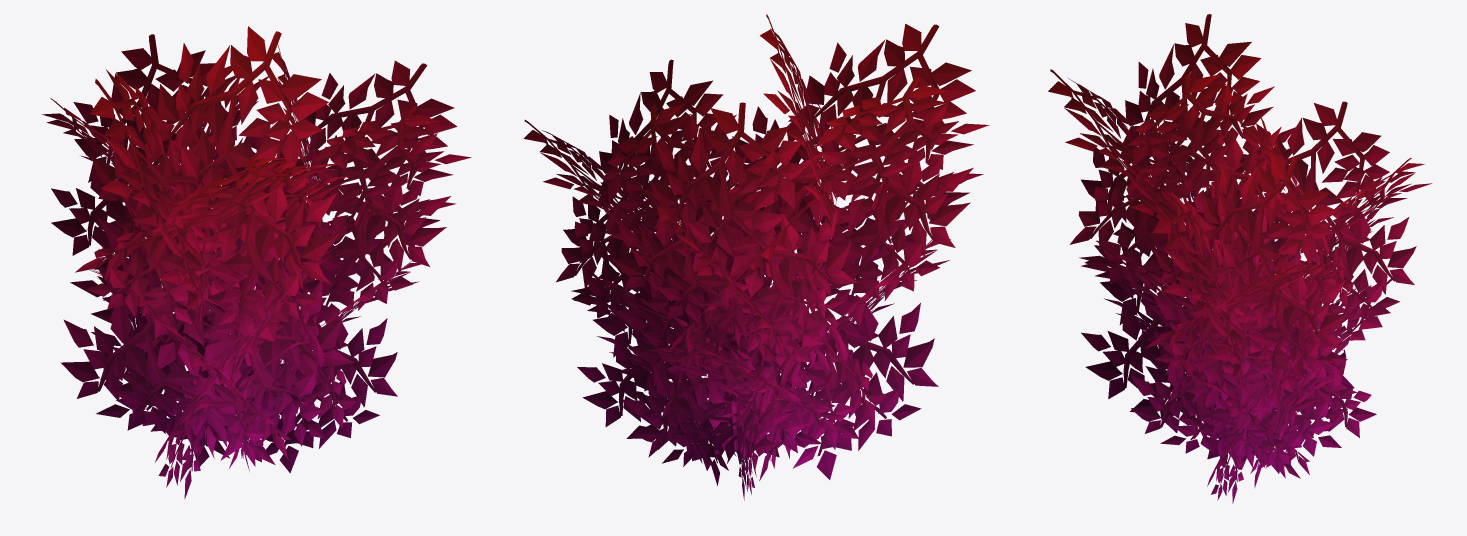
The model's file is synty-plant-bush-leaves-01.gltf.
3 renders of one model, left to right at view 1: azimuth 30°, elevation 25°; view 2: azimuth 150°, elevation 25°; view 3: azimuth 270°, elevation 25°, orthographic. The views are drawn at different scales.
Parts seen in each view (by area): view 1: SM_Plant_Bush_Leaves_01; view 2: SM_Plant_Bush_Leaves_01; view 3: SM_Plant_Bush_Leaves_01.
Part boxes in pixels (x1,y1,x2,y2): SM_Plant_Bush_Leaves_01: (42, 26, 471, 499); SM_Plant_Bush_Leaves_01: (523, 14, 989, 500); SM_Plant_Bush_Leaves_01: (1048, 14, 1432, 503).
Size of the model in its own units: 1.15 by 1.17 by 1.02.
1 material, 1 textured.
